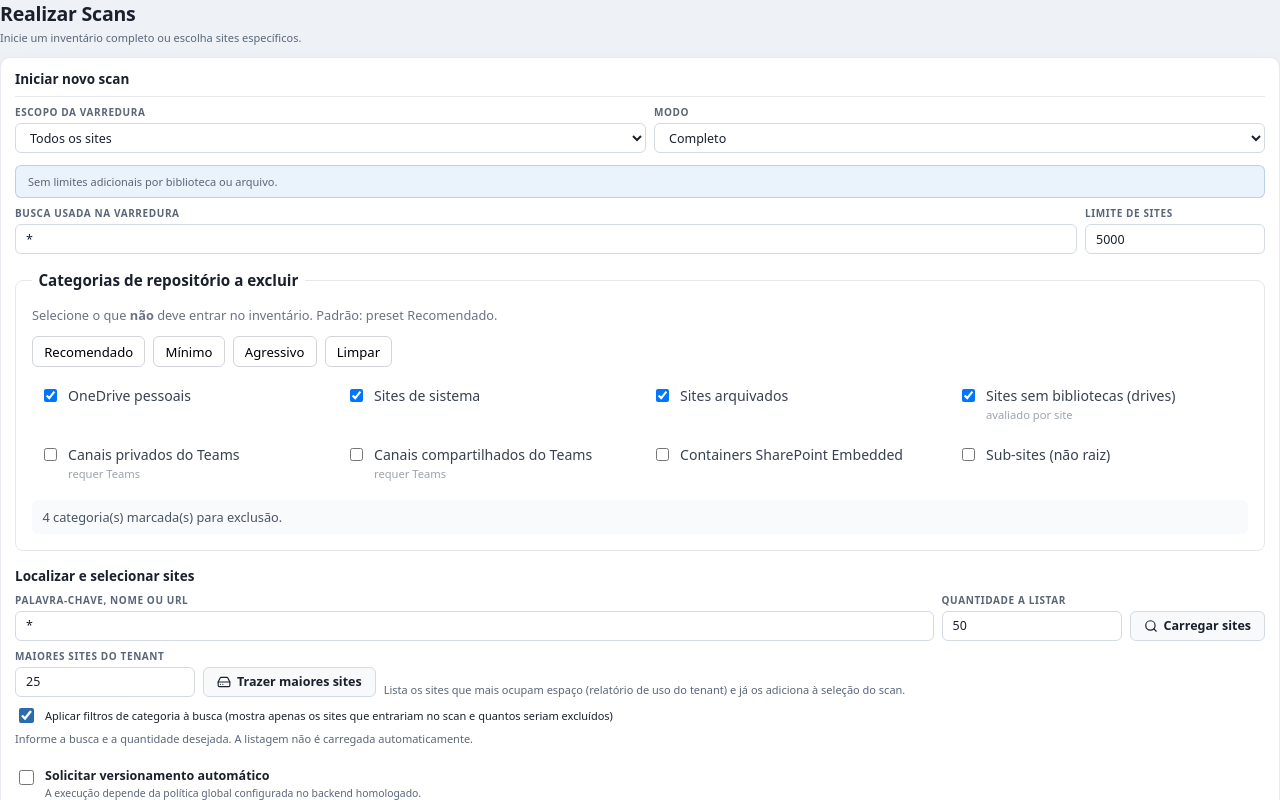
ScansPage › seleciona sites e inicia scan parcial no contrato homologado
This screenshot has width=1280, height=800.
Select "Sites selecionados na lista" in the dropdown labelled "Escopo da varredura" at (330, 138), box [15,123,646,153]
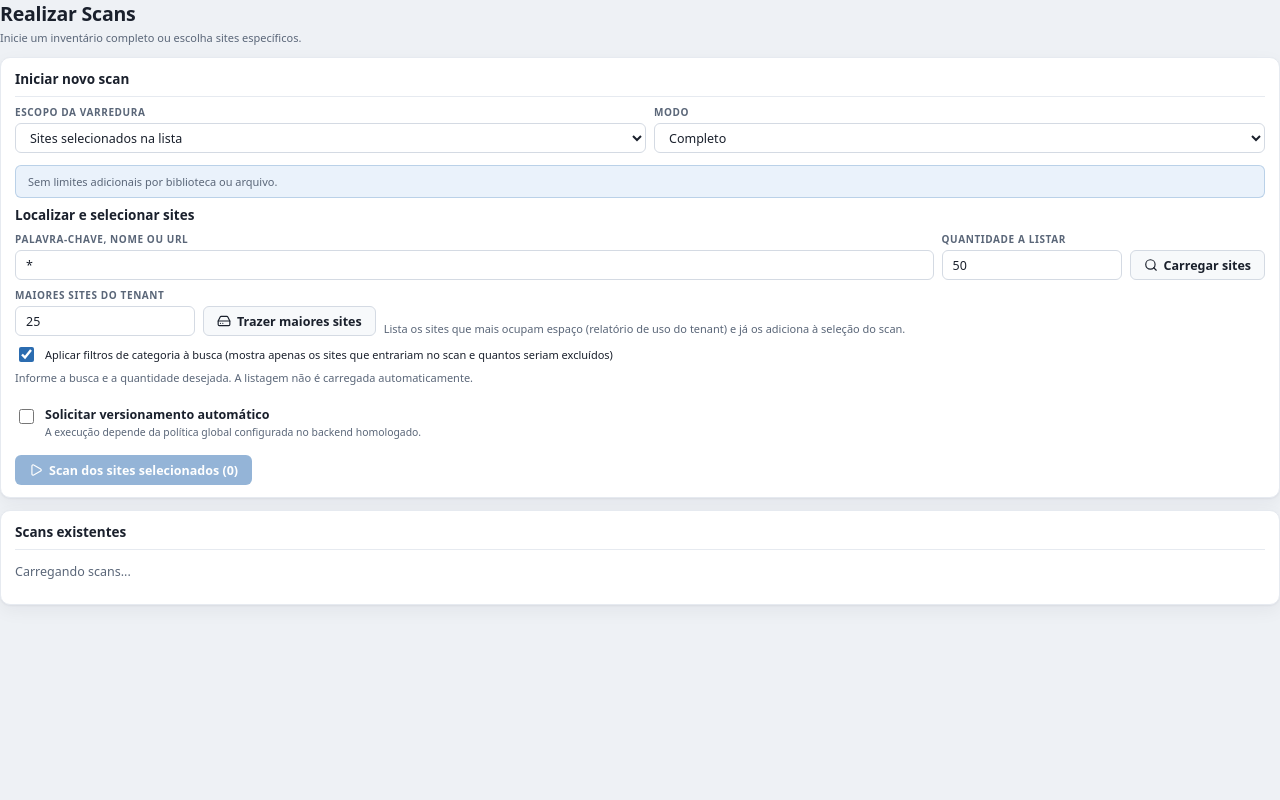
Click the button "Carregar sites" at (1197, 265), box [1130,250,1265,280]
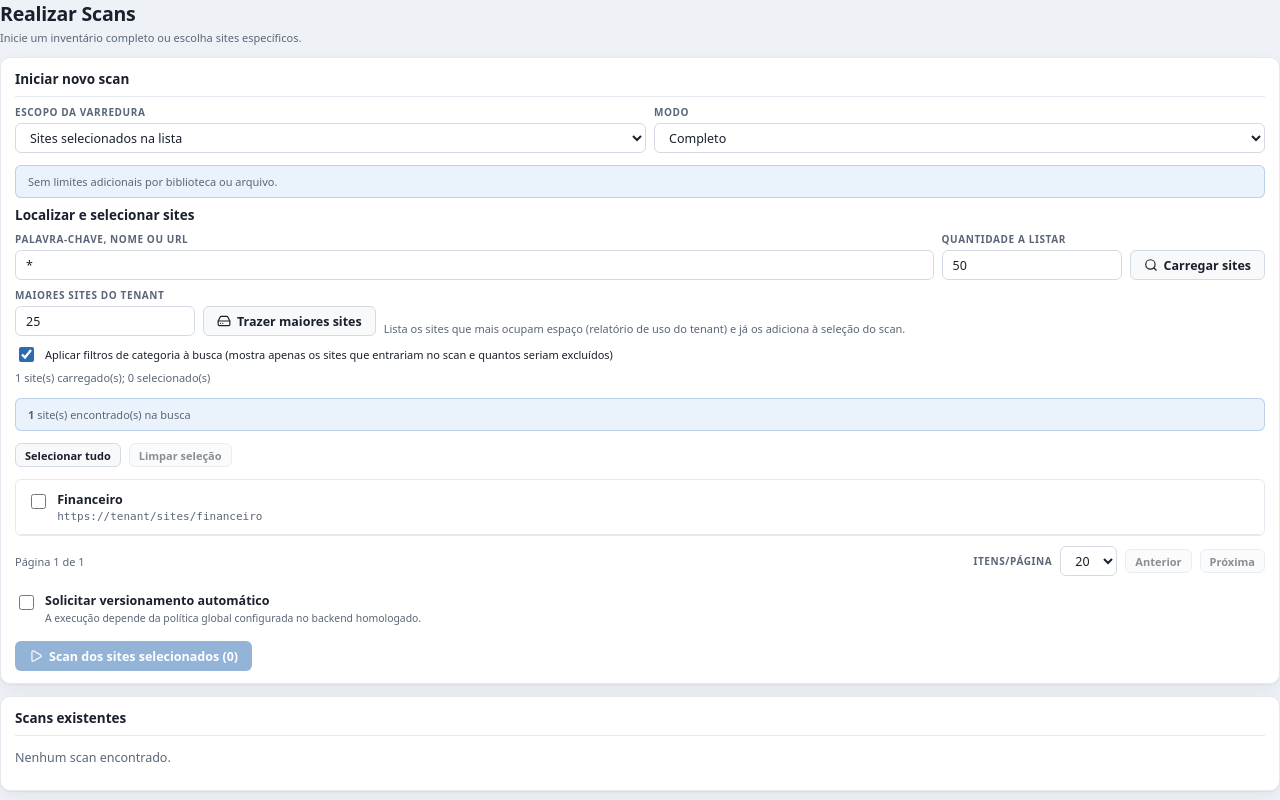
Click the checkbox labelled "Financeiro https://tenant/sites/financeiro" at (39, 502), box [31,494,46,509]
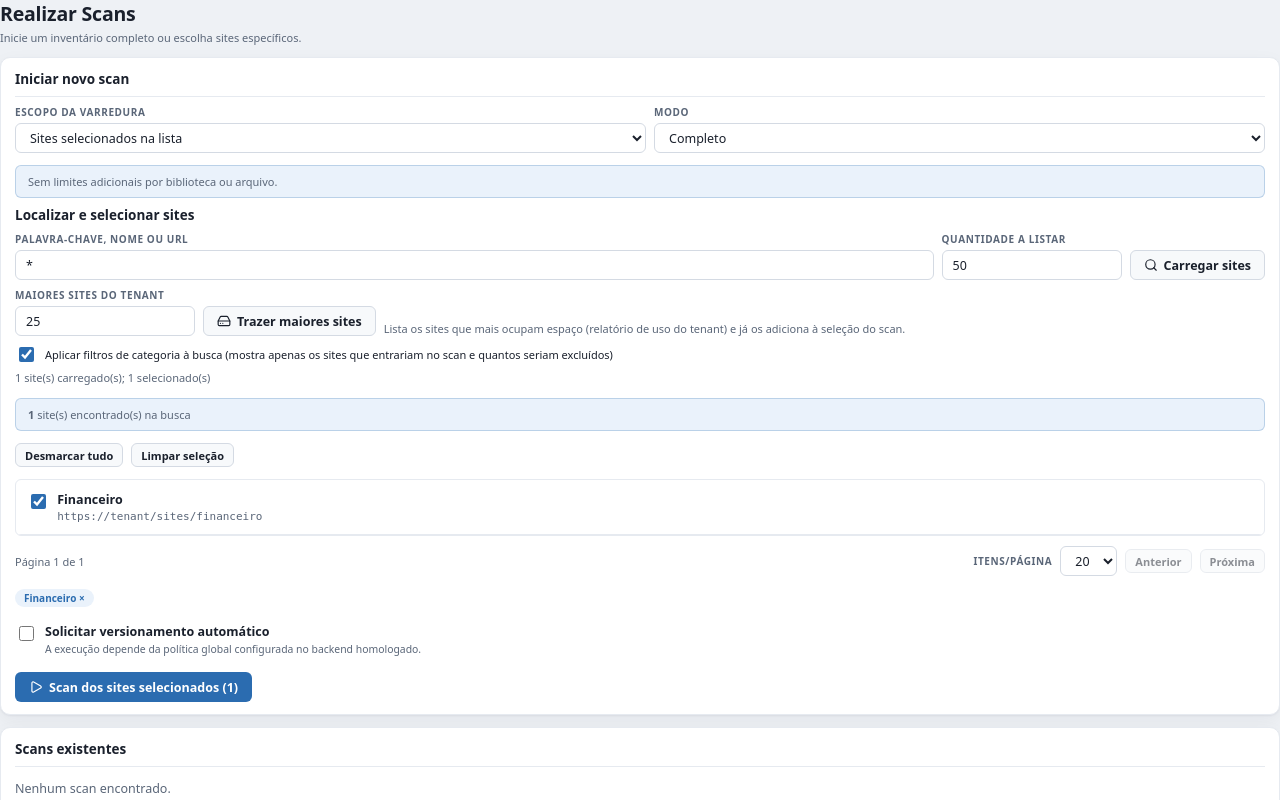
Click the button "Scan dos sites selecionados (1)" at (134, 687), box [15,672,252,702]
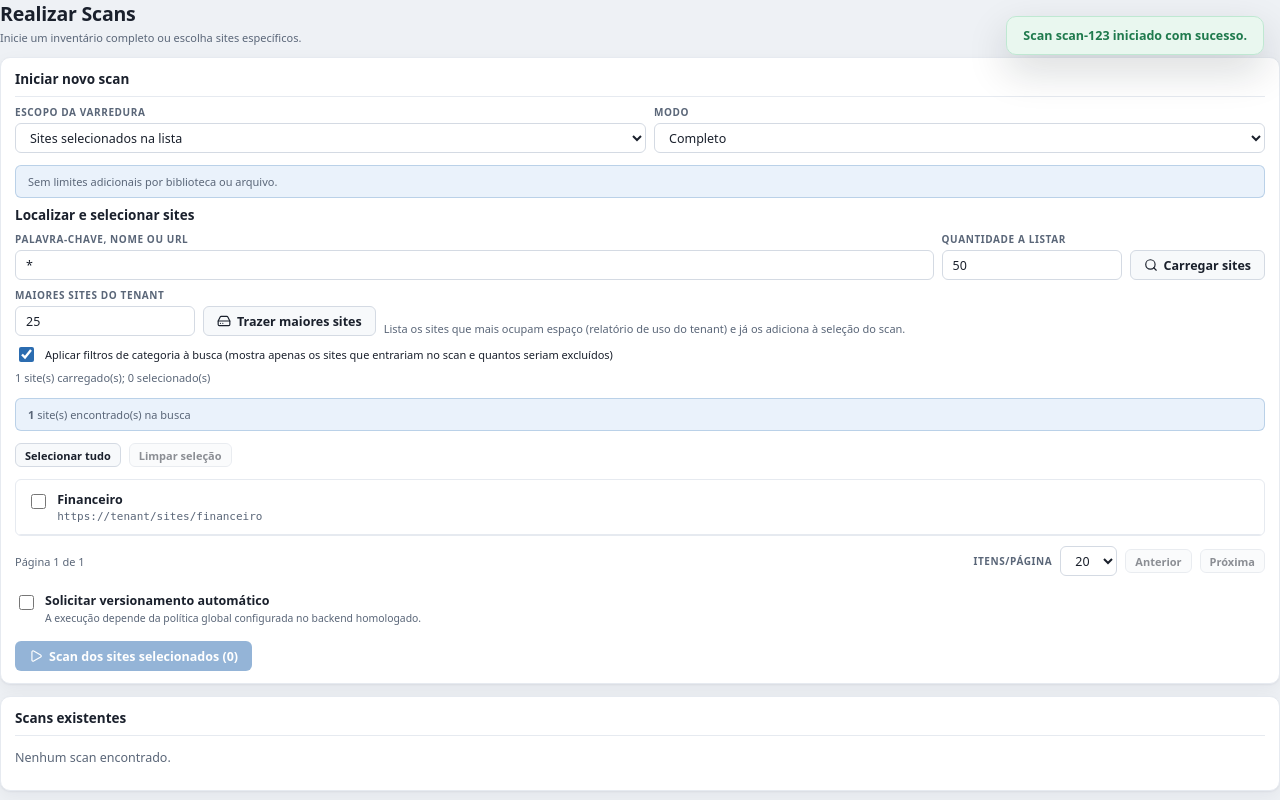
Result: the message shows "scan-123" at [1023,27,1247,44]
